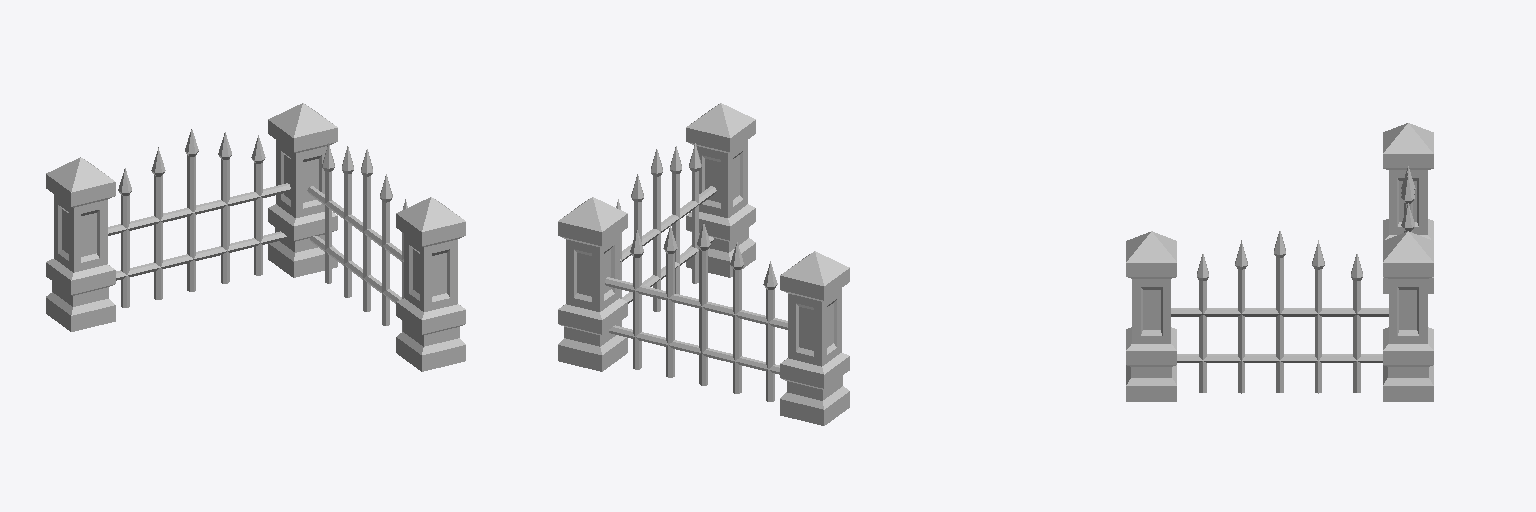
The model's file is fenceCorner.obj.
The picture shows the model from 3 angles: view 1: azimuth 30°, elevation 25°; view 2: azimuth 150°, elevation 25°; view 3: azimuth 270°, elevation 25°; orthographic projection.
Parts seen in each view (by area): view 1: fenceCorner_Cylinder.083; view 2: fenceCorner_Cylinder.083; view 3: fenceCorner_Cylinder.083.
Boxes of the visible parts, <box> form: fenceCorner_Cylinder.083: <box>46,103,465,371</box>; fenceCorner_Cylinder.083: <box>558,103,849,425</box>; fenceCorner_Cylinder.083: <box>1126,123,1433,401</box>.
Size of the model in its own units: 2.4 by 1.4 by 2.4.